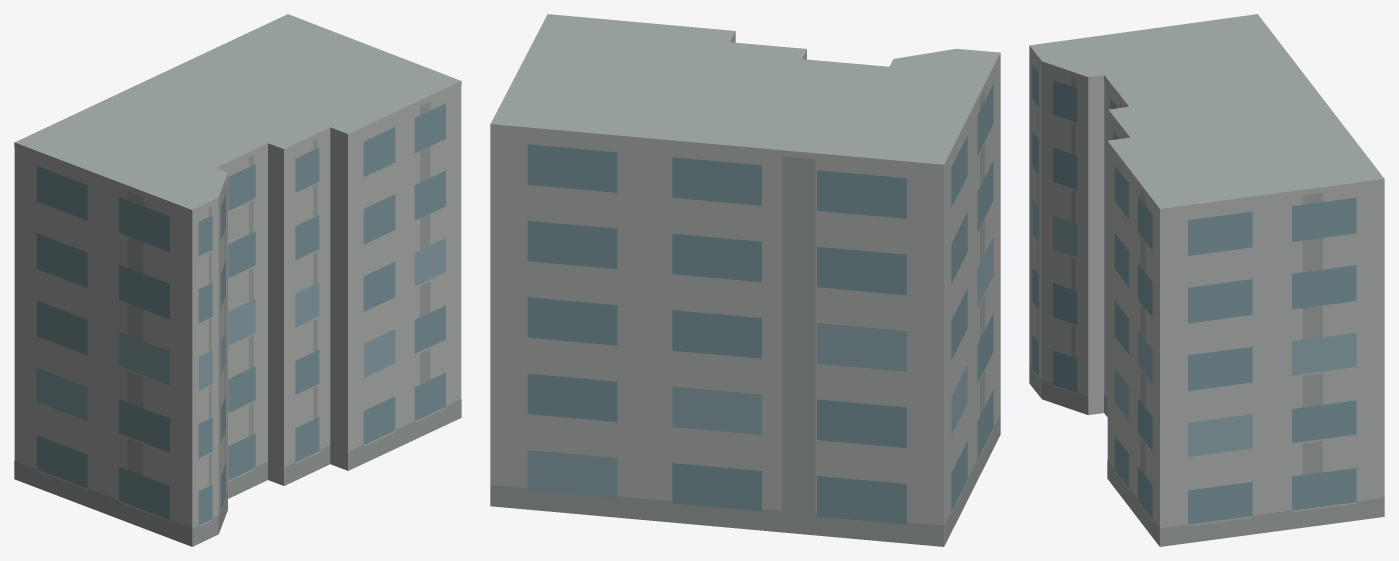
Rendered from survey-upis-32759515.glb.
3 renders of one model, left to right at view 1: azimuth 30°, elevation 25°; view 2: azimuth 150°, elevation 25°; view 3: azimuth 270°, elevation 25°, orthographic. The views are drawn at different scales.
Parts seen in each view (by area): view 1: survey-upis-32759515.tmp; view 2: survey-upis-32759515.tmp; view 3: survey-upis-32759515.tmp.
Part boxes in pixels (bbox=[...]): survey-upis-32759515.tmp: bbox=[14, 14, 461, 546]; survey-upis-32759515.tmp: bbox=[490, 14, 1000, 546]; survey-upis-32759515.tmp: bbox=[1029, 14, 1384, 546].
Size of the model in its own units: 18.51 by 14.95 by 14.25.
